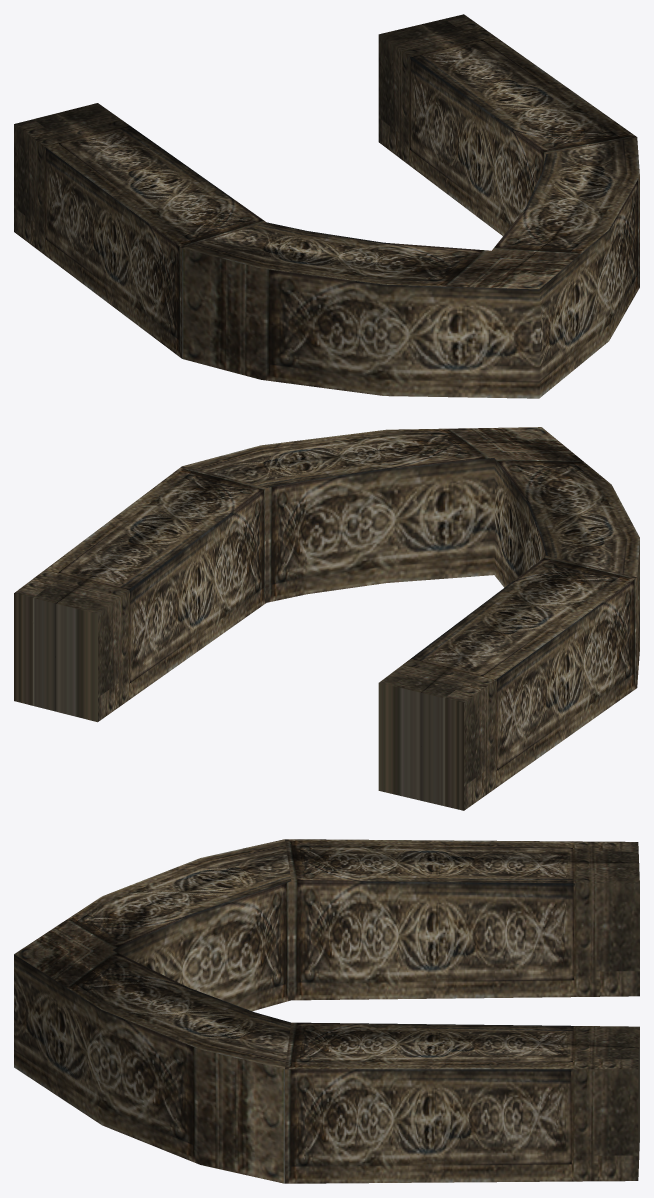
Rendered from gate_14.obj.
3 views of the same model, one above another, from view 1: azimuth 30°, elevation 25°; view 2: azimuth 150°, elevation 25°; view 3: azimuth 270°, elevation 25° (orthographic). The views are drawn at different scales.
Visible parts, largest first — view 1: (null); view 2: (null); view 3: (null).
Part boxes in pixels (x1,y1,x2,y2): (null): [14, 14, 639, 398]; (null): [14, 427, 639, 810]; (null): [14, 839, 639, 1183].
Bounding box in the file's own units: 2.24 × 0.5513 × 2.58.
